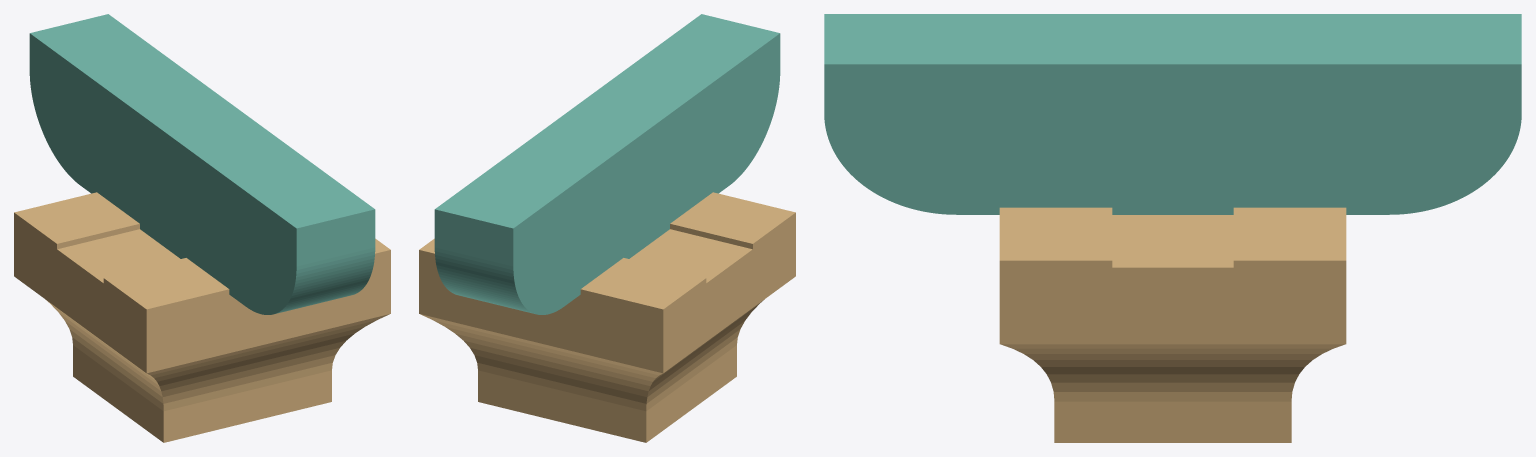
Rendered from WANFO_HUA1_ONE_SEAT_CANDIDATE_V001.glb.
3 renders of one model, left to right at view 1: azimuth 30°, elevation 25°; view 2: azimuth 150°, elevation 25°; view 3: azimuth 270°, elevation 25°, orthographic. The views are drawn at different scales.
Visible parts, largest first — view 1: HUA1_SECTION_MAP_CANDIDATE, SOURCE_LUDOU_READONLY; view 2: HUA1_SECTION_MAP_CANDIDATE, SOURCE_LUDOU_READONLY; view 3: HUA1_SECTION_MAP_CANDIDATE, SOURCE_LUDOU_READONLY.
Part boxes in pixels (left/top/right/bottom): HUA1_SECTION_MAP_CANDIDATE: left=29, top=14, right=375, bottom=314; SOURCE_LUDOU_READONLY: left=14, top=192, right=390, bottom=442; HUA1_SECTION_MAP_CANDIDATE: left=434, top=14, right=780, bottom=314; SOURCE_LUDOU_READONLY: left=419, top=192, right=795, bottom=442; HUA1_SECTION_MAP_CANDIDATE: left=824, top=14, right=1521, bottom=214; SOURCE_LUDOU_READONLY: left=999, top=207, right=1346, bottom=442.
Bounding box in the file's own units: 0.4751 × 0.498 × 0.8988.
